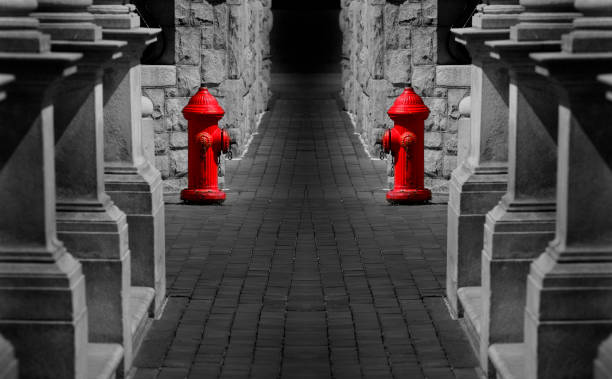firehdyrant: (376, 79, 435, 207), (180, 83, 238, 207)
